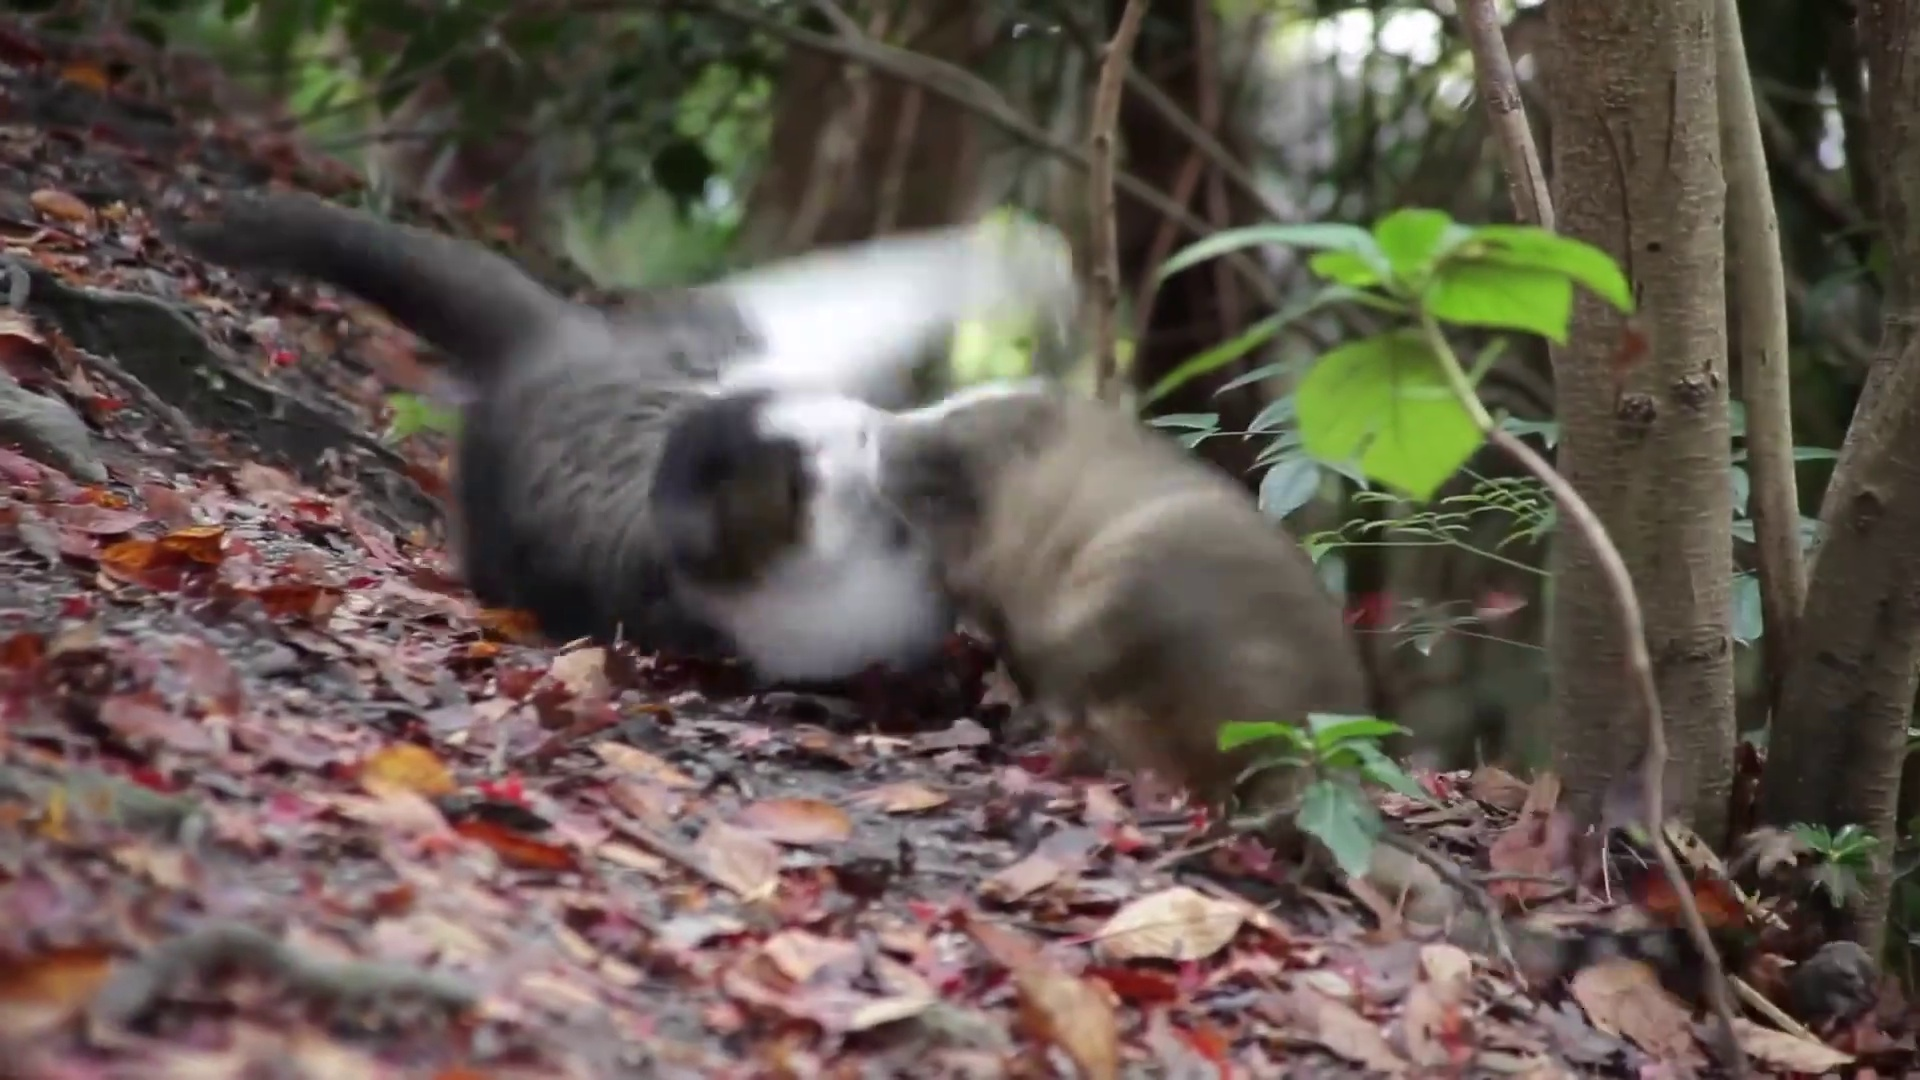black-white: (166, 189, 960, 673)
pure black: (884, 396, 1364, 799)
